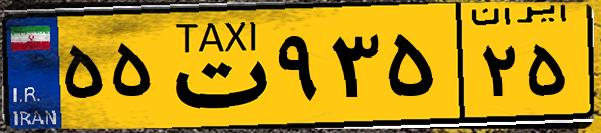2: (475, 38, 525, 113)
3: (330, 28, 385, 110)
5: (385, 28, 445, 110), (57, 26, 110, 100), (525, 38, 570, 115), (110, 28, 158, 98)
9: (270, 28, 330, 110)
ت: (158, 12, 270, 120)
